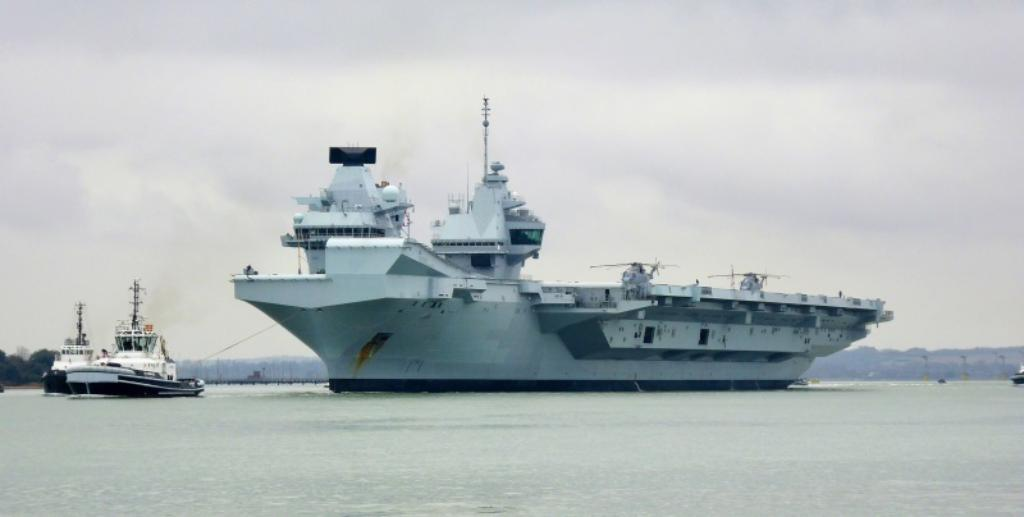Warship: (222, 89, 896, 398)
